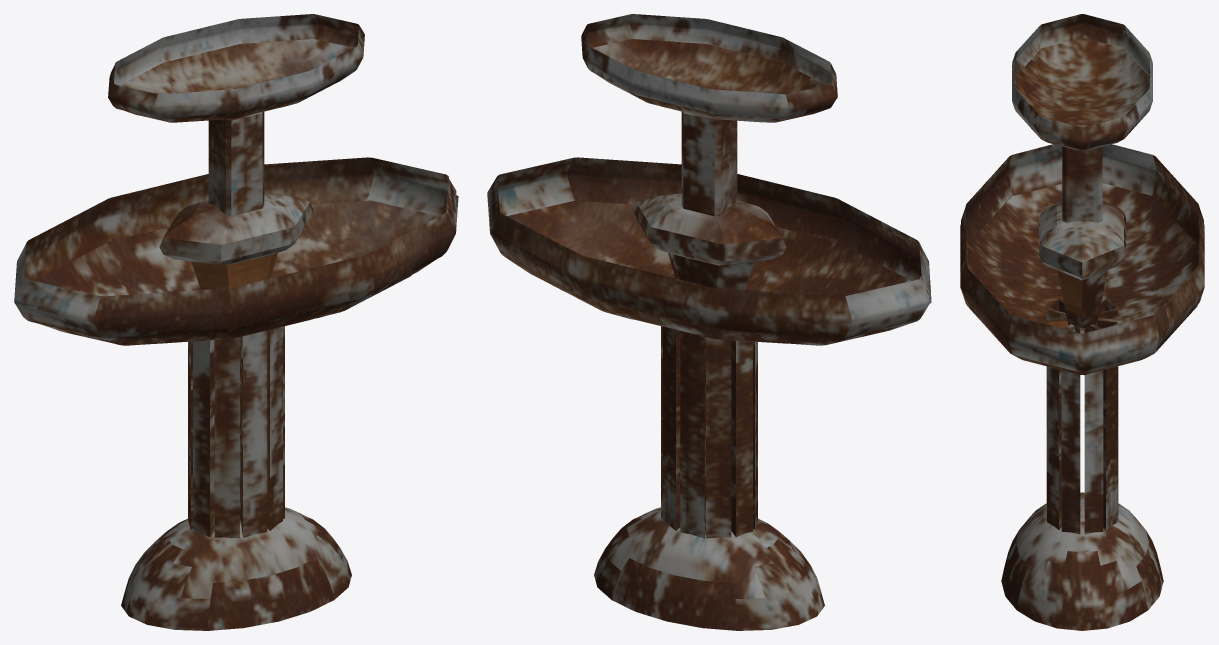
File: WaterFountain.fbx
3 renders of one model, left to right at view 1: azimuth 30°, elevation 25°; view 2: azimuth 150°, elevation 25°; view 3: azimuth 270°, elevation 25°, orthographic. The views are drawn at different scales.
Parts seen in each view (by area): view 1: Fountain; view 2: Fountain; view 3: Fountain.
Boxes of the visible parts, x1,y1,x2,y2 form: Fountain: (14, 14, 458, 630); Fountain: (487, 14, 931, 630); Fountain: (960, 14, 1204, 630).
Bounding box in the file's own units: 2.3 × 2.66 × 1.15.
Materials: 1 (1 with a texture image).
